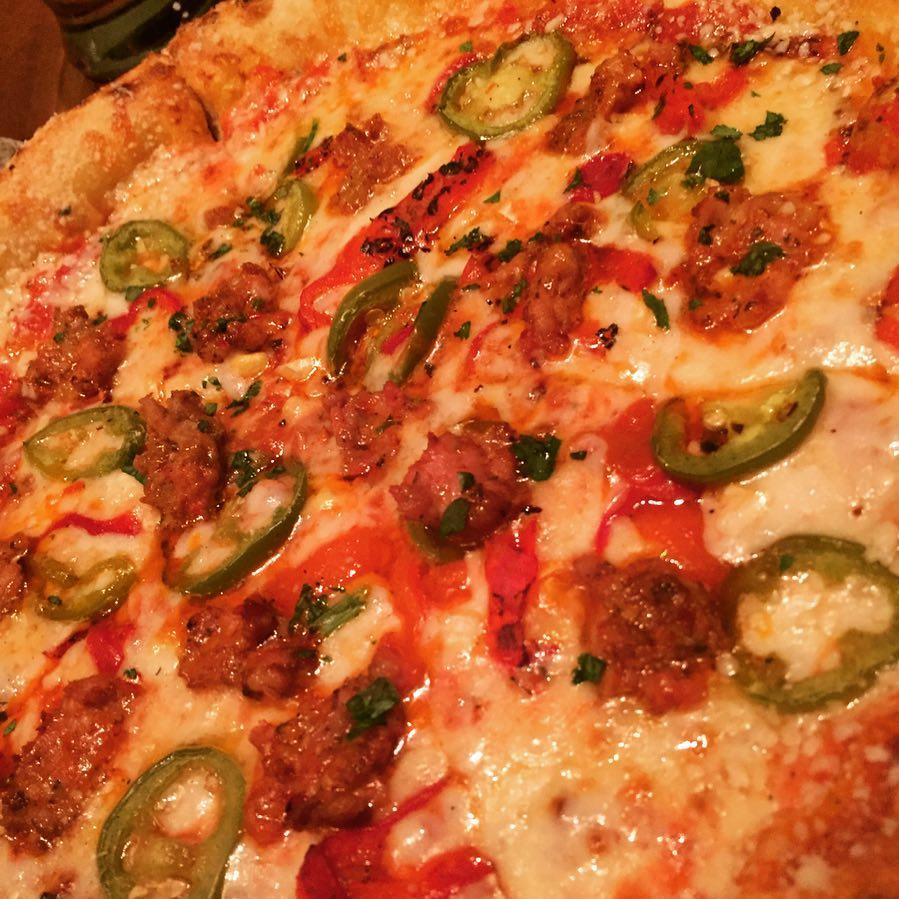Peppers: (710, 521, 899, 720), (150, 443, 324, 607), (90, 741, 253, 899), (647, 356, 833, 487), (314, 250, 473, 394), (426, 23, 584, 146), (14, 394, 161, 481), (10, 540, 144, 629), (620, 129, 719, 247), (89, 214, 200, 299), (256, 176, 321, 256)
Pizza: (0, 0, 899, 899)
